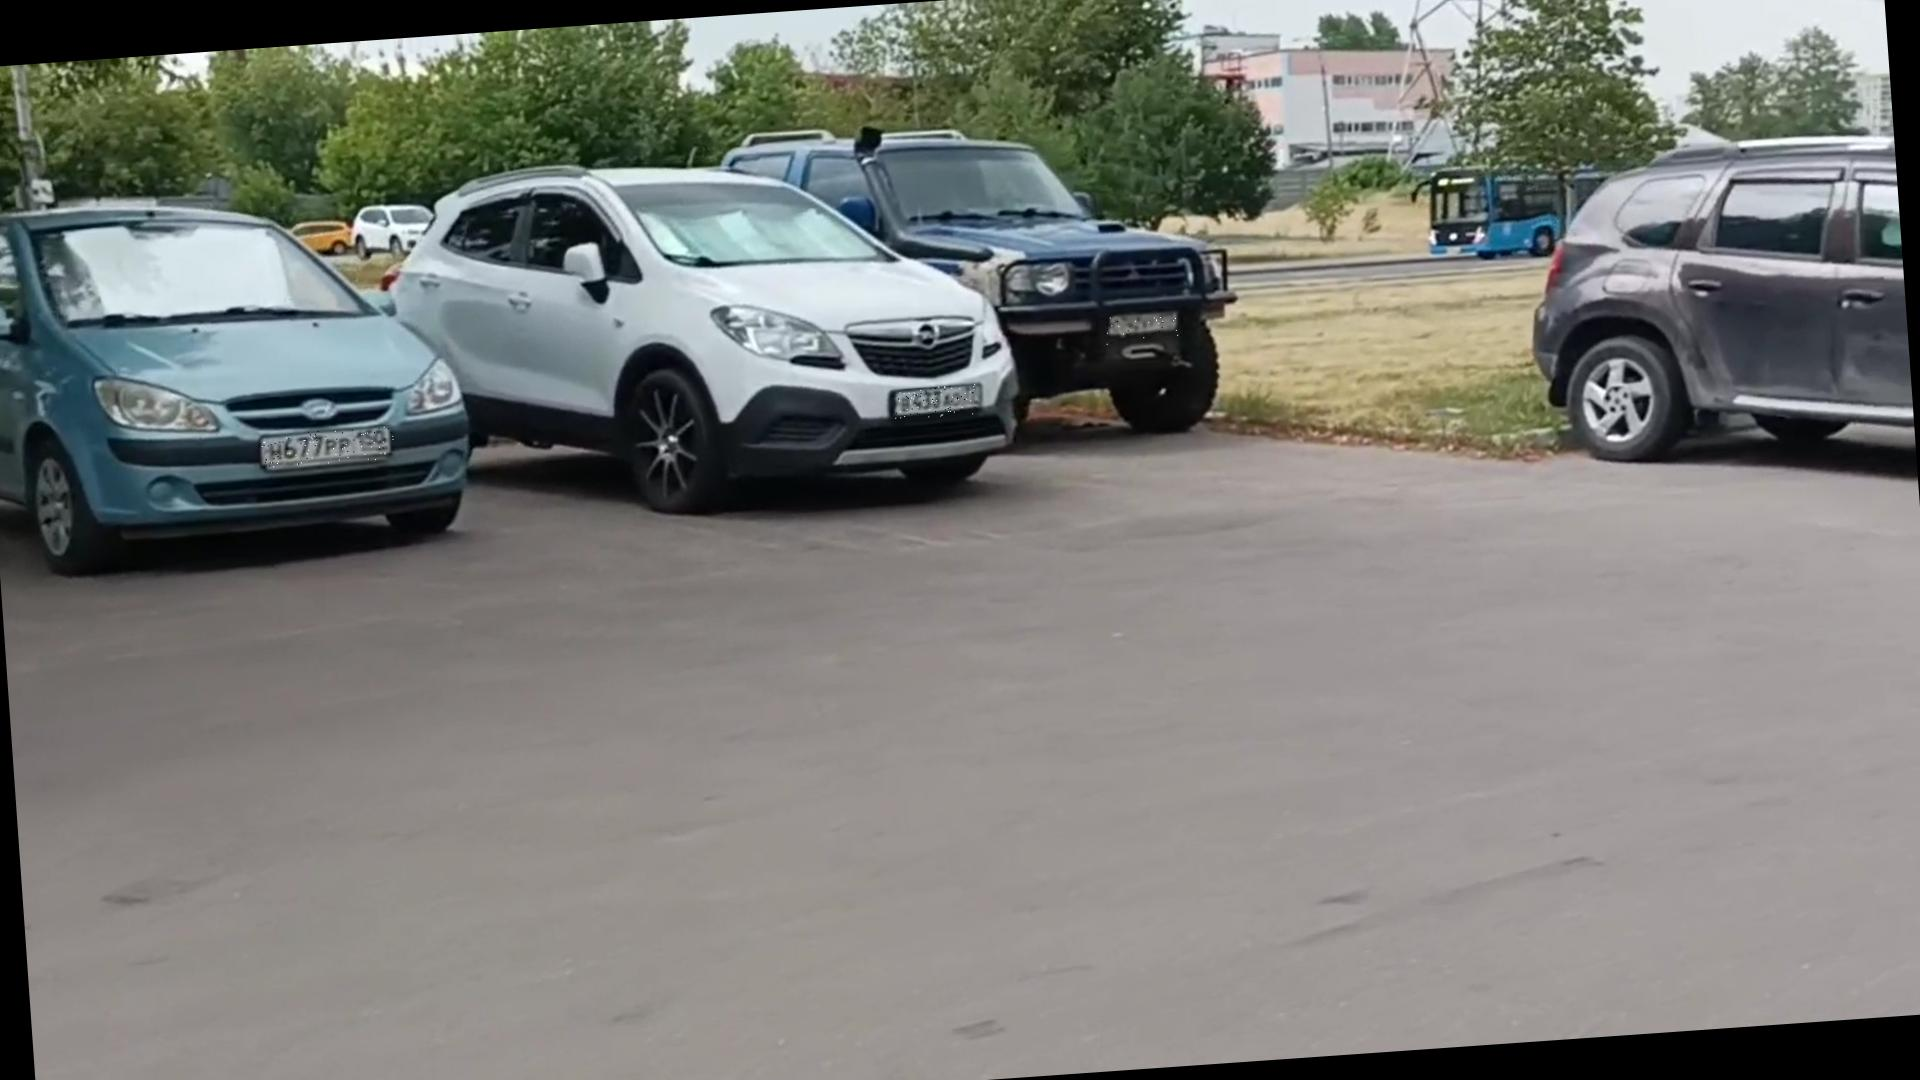plate: (260, 427, 397, 469), (892, 386, 980, 422), (1104, 313, 1189, 346)
